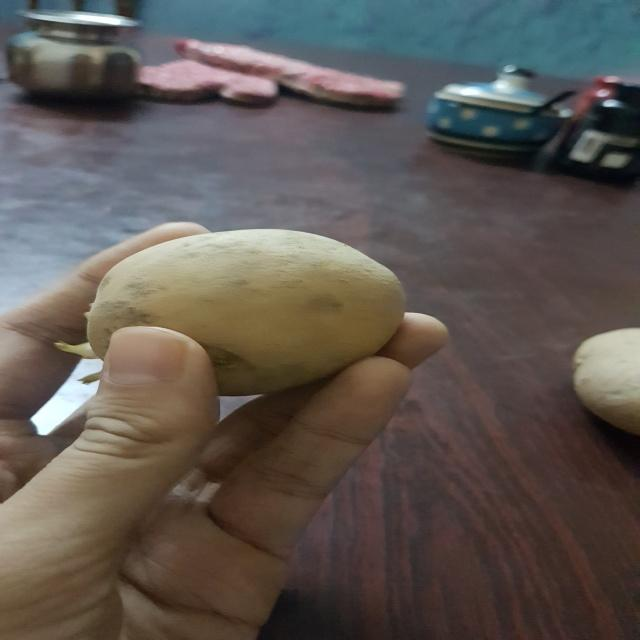potato: (55, 222, 409, 409)
